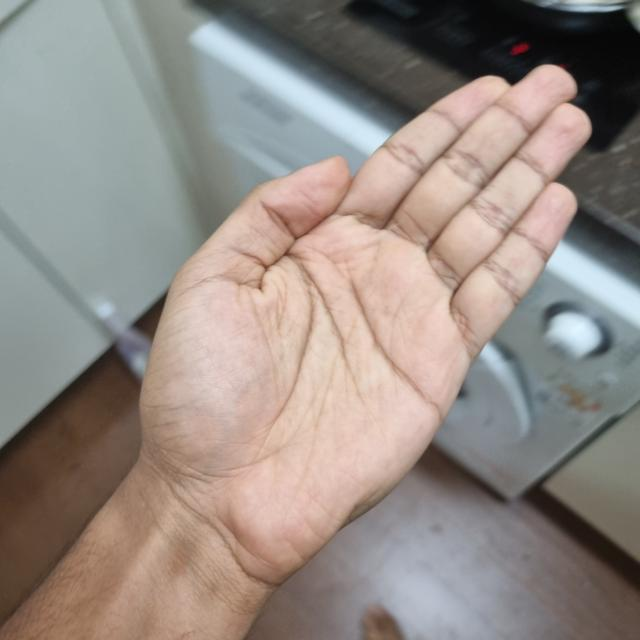Paper: (137, 64, 589, 561)
